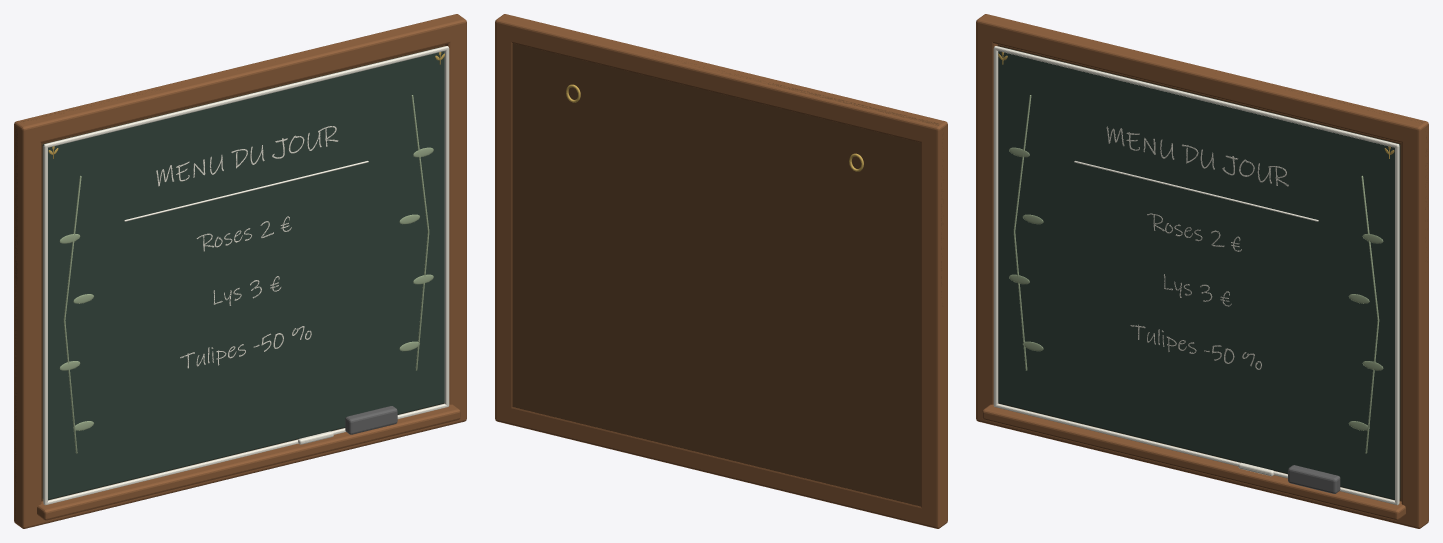
The model's file is chalk_menu.glb.
3 renders of one model, left to right at view 1: azimuth 30°, elevation 25°; view 2: azimuth 150°, elevation 25°; view 3: azimuth 330°, elevation 25°, orthographic.
Visible parts, largest first — view 1: Sage_slate, Wood_cross_frame.001, Wood_side_frame, Wood_side_frame.001, Chalk_ledge, Back_wood_panel, Cream_bevel.001, Cream_bevel.003, Wood_cross_frame, Cream_bevel, Cream_bevel.002, Felt_eraser (+5 smaller); view 2: Back_wood_panel, Wood_cross_frame.001, Wood_side_frame, Wood_cross_frame, Wood_side_frame.001; view 3: Sage_slate, Wood_cross_frame.001, Wood_side_frame.001, Wood_side_frame, Chalk_ledge, Cream_bevel, Cream_bevel.003, Wood_cross_frame, Cream_bevel.001, Back_wood_panel, Cream_bevel.002, Felt_eraser (+5 smaller).
Boxes of the visible parts, box(x1,y1,x2,y2) form: Sage_slate: box(42, 47, 444, 500); Wood_cross_frame.001: box(14, 14, 466, 145); Wood_side_frame: box(14, 123, 41, 528); Wood_side_frame.001: box(445, 21, 466, 424); Chalk_ledge: box(37, 403, 460, 520); Back_wood_panel: box(15, 44, 445, 521); Cream_bevel.001: box(444, 48, 449, 405); Cream_bevel.003: box(43, 46, 448, 147); Wood_cross_frame: box(14, 405, 466, 528); Cream_bevel: box(43, 146, 47, 504); Cream_bevel.002: box(44, 403, 448, 505); Felt_eraser: box(345, 406, 397, 434); Back_wood_panel: box(512, 43, 941, 506); Wood_cross_frame.001: box(495, 14, 947, 145); Wood_side_frame: box(921, 123, 947, 528); Wood_cross_frame: box(495, 404, 944, 528); Wood_side_frame.001: box(495, 21, 512, 424); Sage_slate: box(998, 47, 1400, 500); Wood_cross_frame.001: box(976, 14, 1428, 145); Wood_side_frame.001: box(1401, 123, 1428, 528); Wood_side_frame: box(976, 21, 997, 424); Chalk_ledge: box(982, 403, 1405, 520); Cream_bevel: box(993, 48, 998, 405); Cream_bevel.003: box(994, 46, 1399, 147); Wood_cross_frame: box(976, 404, 1425, 528); Cream_bevel.001: box(1395, 146, 1399, 504); Back_wood_panel: box(997, 44, 1427, 501); Cream_bevel.002: box(994, 403, 1398, 505); Felt_eraser: box(1288, 465, 1340, 493).
Bounding box in the file's own units: 1.1 × 0.95 × 0.0855.
